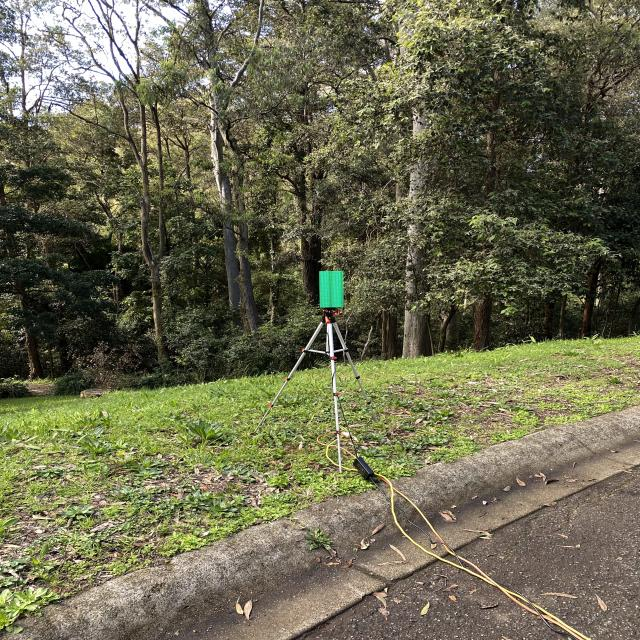matrix: (316, 264, 352, 312)
